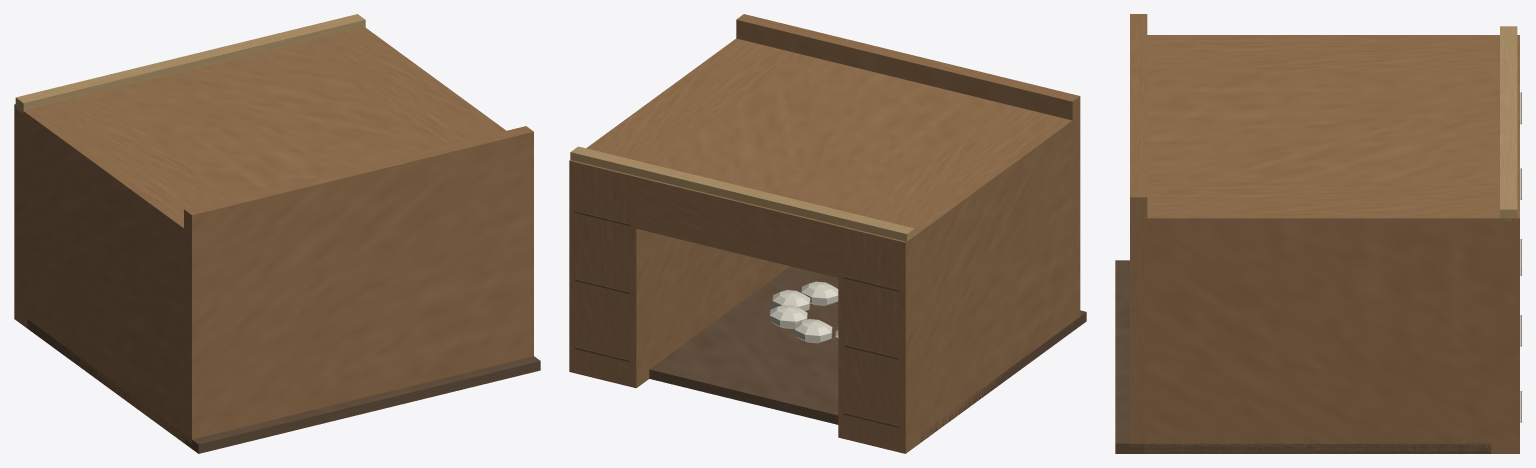
The model's file is house_crevice.obj.
The picture shows the model from 3 angles, left to right: view 1: azimuth 30°, elevation 25°; view 2: azimuth 150°, elevation 25°; view 3: azimuth 270°, elevation 25°; orthographic projection. The views are drawn at different scales.
Parts seen in each view (by area): view 1: house_crevice; view 2: house_crevice; view 3: house_crevice.
Part boxes in pixels (bbox=[...]): house_crevice: bbox=[14, 14, 540, 453]; house_crevice: bbox=[569, 14, 1086, 453]; house_crevice: bbox=[1115, 14, 1521, 453].
Bounding box in the file's own units: 15 × 9.8 × 14.05.
1 material, 1 textured.
